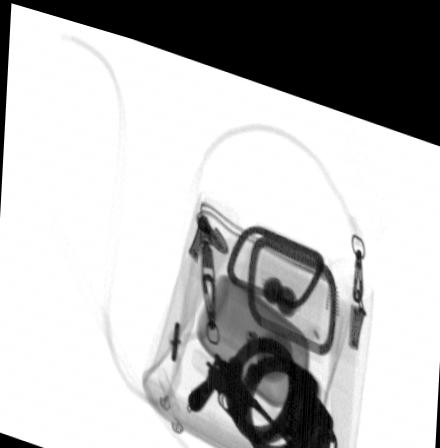Gun: (185, 337, 299, 438)
HandCuffs: (225, 322, 339, 448)
